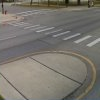crosswalk: (16, 21, 100, 47)
